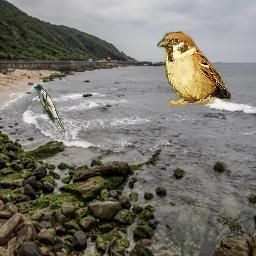Cuckoo: (35, 84, 66, 134)
Sparrow: (157, 31, 231, 107)
